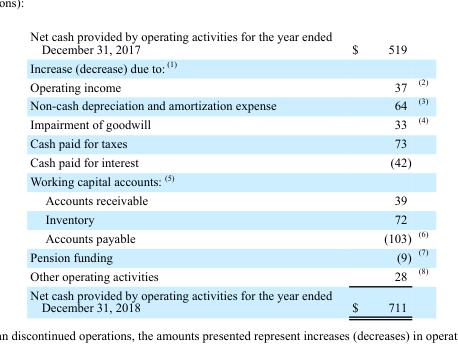table: (29, 28, 427, 314)
table column: (29, 28, 341, 314), (341, 28, 414, 314), (414, 28, 427, 314)
table column header: (29, 28, 427, 56)
table projected row header: (29, 170, 427, 190), (29, 56, 427, 75)
table row: (29, 285, 427, 314), (29, 28, 427, 56), (29, 264, 427, 285), (29, 113, 427, 133), (29, 170, 427, 190), (29, 56, 427, 75), (29, 75, 427, 94), (29, 94, 427, 113), (29, 133, 427, 152), (29, 190, 427, 209), (29, 245, 427, 264), (29, 152, 427, 170), (29, 209, 427, 227), (29, 227, 427, 245)
